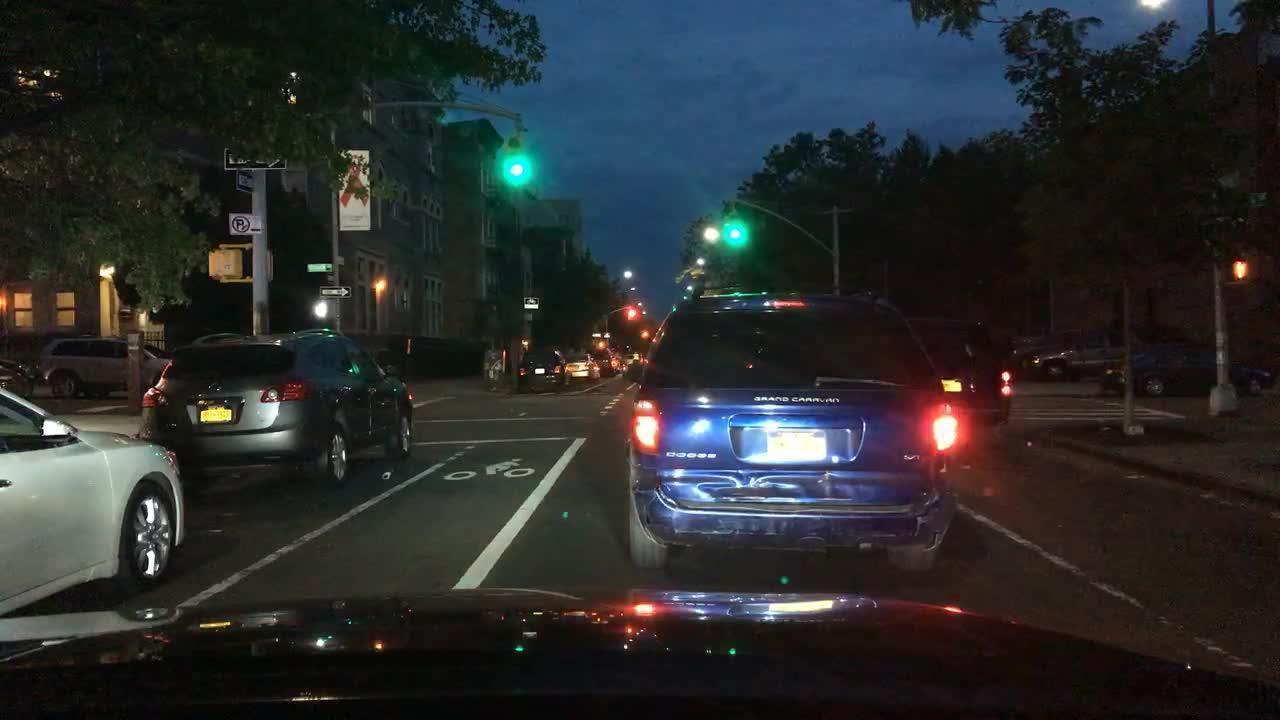dodge: (663, 447, 722, 465)
